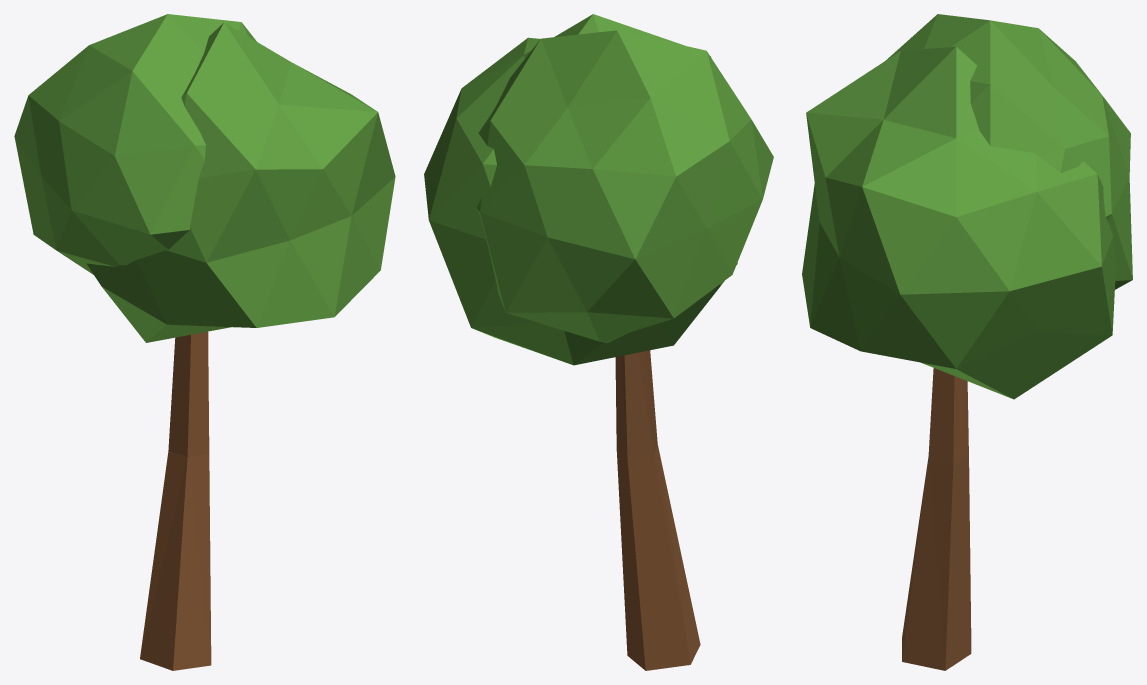
The model's file is HS_LP_Sapling_Oak_01.fbx.
3 views of the same model, side by side, from view 1: azimuth 30°, elevation 25°; view 2: azimuth 150°, elevation 25°; view 3: azimuth 270°, elevation 25° (orthographic). The views are drawn at different scales.
Visible parts, largest first — view 1: HS_LP_Sapling_Oak_01; view 2: HS_LP_Sapling_Oak_01; view 3: HS_LP_Sapling_Oak_01.
Part boxes in pixels (<box>): HS_LP_Sapling_Oak_01: <box>14,14,395,670</box>; HS_LP_Sapling_Oak_01: <box>424,14,773,670</box>; HS_LP_Sapling_Oak_01: <box>802,14,1132,670</box>.
Size of the model in its own units: 53.66 by 106 by 49.16.
